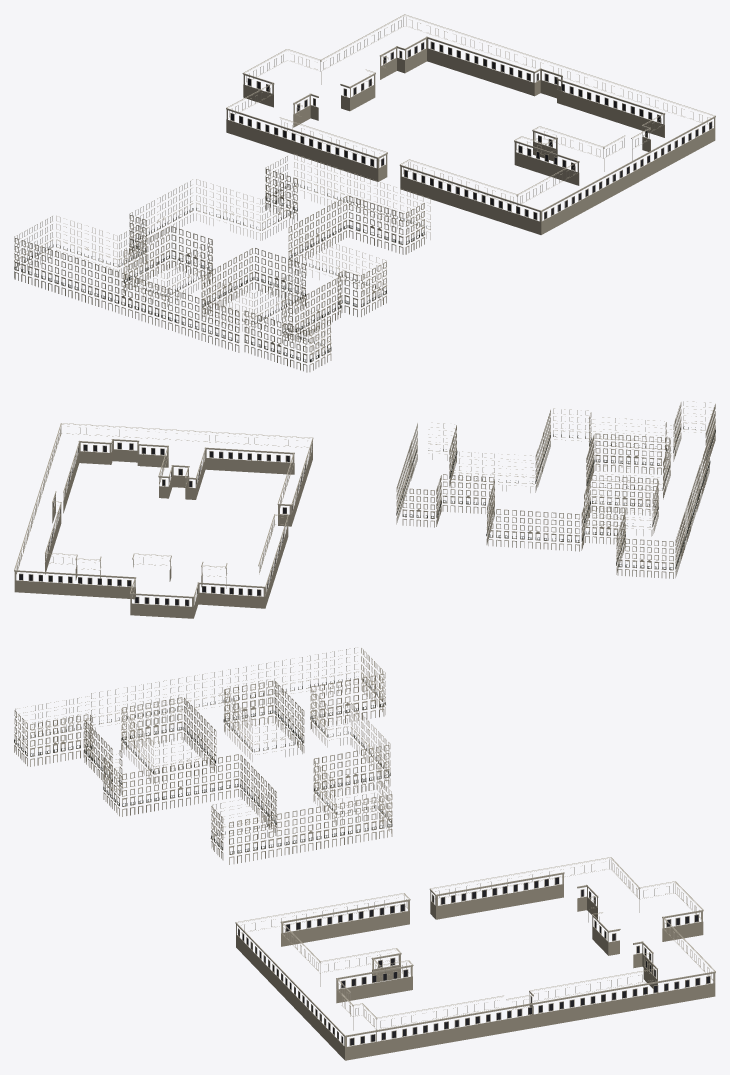
3 renders of one model, top to bottom at view 1: azimuth 30°, elevation 25°; view 2: azimuth 150°, elevation 25°; view 3: azimuth 270°, elevation 25°, orthographic. The views are drawn at different scales.
Parts seen in each view (by area): view 1: detail; view 2: detail; view 3: detail.
Boxes of the visible parts, left/top/right/bottom form: detail: left=14, top=14, right=715, bottom=372; detail: left=14, top=401, right=715, bottom=618; detail: left=14, top=647, right=715, bottom=1060.
Bounding box in the file's own units: 260 × 23.99 × 223.
